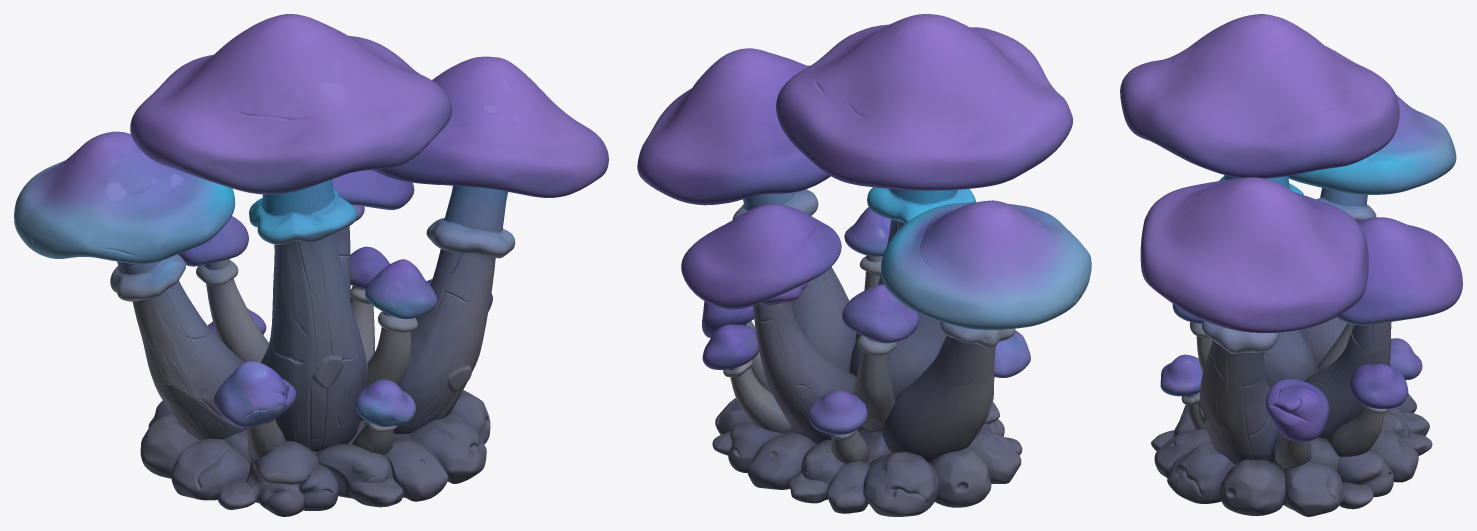
File: mushrooms.glb
The picture shows the model from 3 angles, left to right: view 1: azimuth 30°, elevation 25°; view 2: azimuth 150°, elevation 25°; view 3: azimuth 270°, elevation 25°; orthographic projection. The views are drawn at different scales.
Parts seen in each view (by area): view 1: tripo_node_e5e36c05-5f9b-475f-88c4-d1b62fb33958; view 2: tripo_node_e5e36c05-5f9b-475f-88c4-d1b62fb33958; view 3: tripo_node_e5e36c05-5f9b-475f-88c4-d1b62fb33958.
Boxes of the visible parts, x1,y1,x2,y2 form: tripo_node_e5e36c05-5f9b-475f-88c4-d1b62fb33958: [14, 14, 608, 516]; tripo_node_e5e36c05-5f9b-475f-88c4-d1b62fb33958: [637, 14, 1091, 516]; tripo_node_e5e36c05-5f9b-475f-88c4-d1b62fb33958: [1120, 14, 1462, 516].
Size of the model in its own units: 0.98 by 0.8614 by 0.6382.
Materials: 1 (1 with a texture image).
